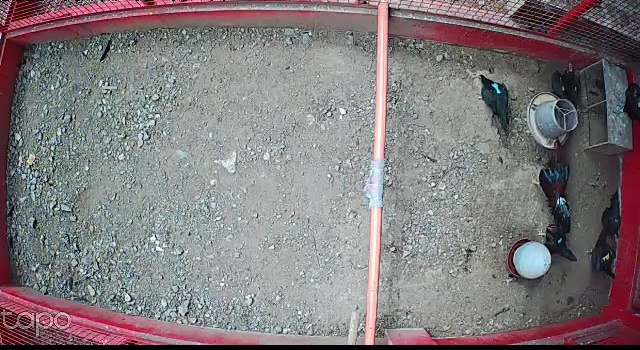Chicken: (532, 216, 584, 271), (474, 71, 515, 133), (549, 60, 584, 128), (583, 226, 622, 284), (601, 192, 626, 249), (616, 83, 640, 137)
Drinker: (507, 238, 551, 286)
Rooster: (532, 137, 571, 232)
Saddle_Color_Blue: (557, 236, 563, 246)
Saddle_Color_Bluegreen: (492, 82, 502, 94)
Saddle_Color_Yellow: (601, 253, 611, 264)
